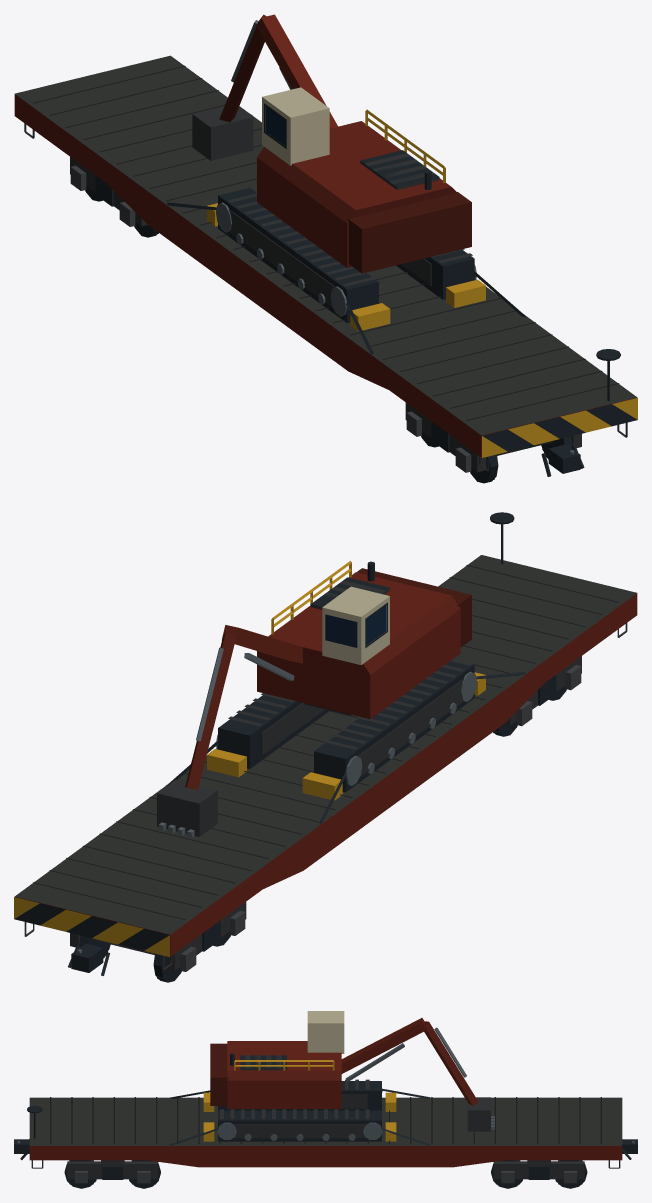
File: equipment-carrier.glb
The picture shows the model from 3 angles, top to bottom: view 1: azimuth 30°, elevation 25°; view 2: azimuth 150°, elevation 25°; view 3: azimuth 270°, elevation 25°; orthographic projection. The views are drawn at different scales.
Parts seen in each view (by area): view 1: equipment-carrier (×2); view 2: equipment-carrier (×2); view 3: equipment-carrier (×2).
Boxes of the visible parts, x1=… form: equipment-carrier (×2): x1=14, y1=14, x2=637, y2=483; equipment-carrier (×2): x1=14, y1=512, x2=637, y2=982; equipment-carrier (×2): x1=14, y1=1011, x2=637, y2=1188.
Bounding box in the file's own units: 8.8 × 13.74 × 48.
